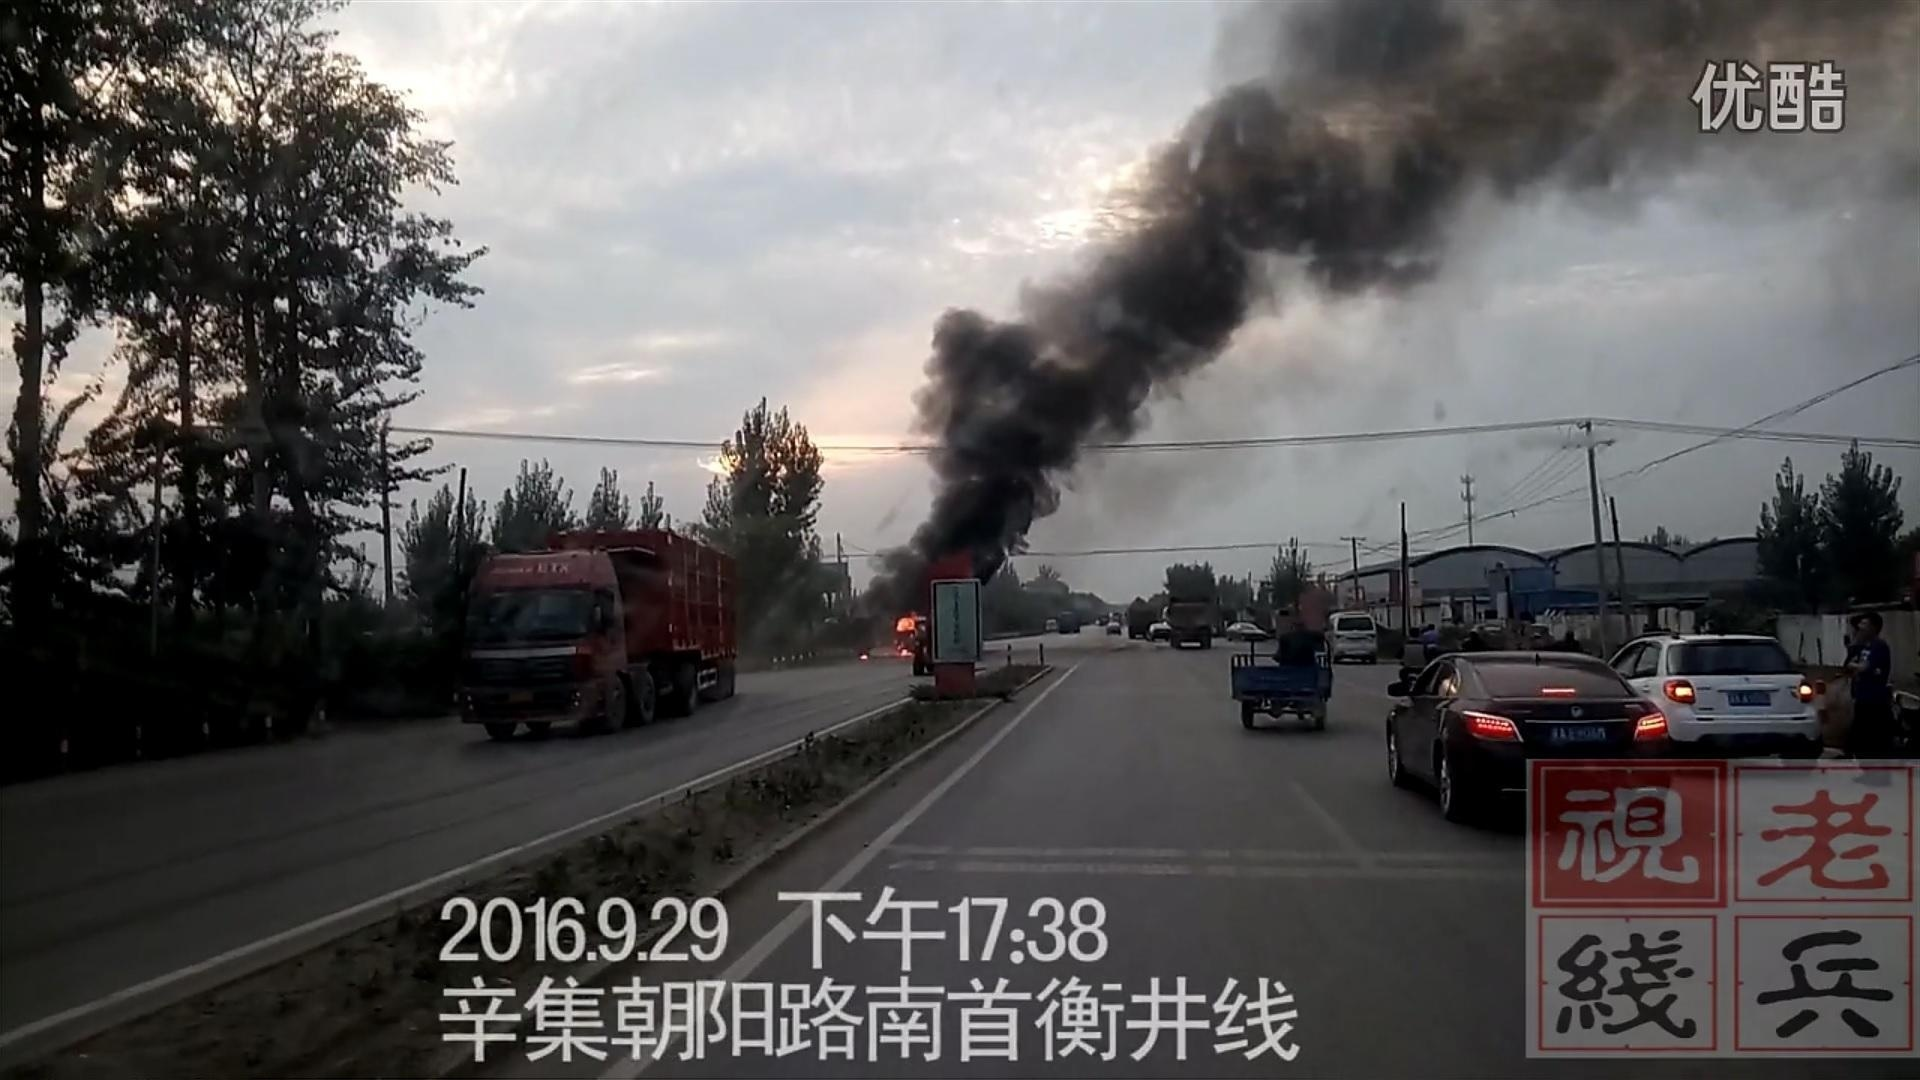fire: (889, 609, 927, 665)
